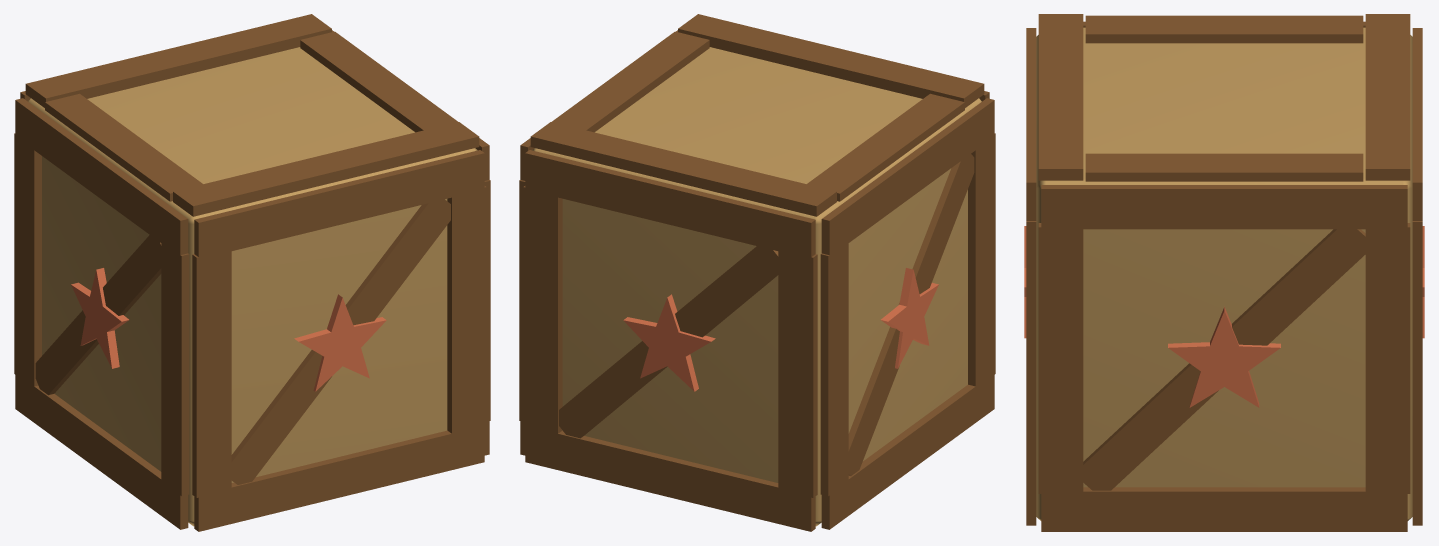
File: tropic-crate.glb
3 renders of one model, left to right at view 1: azimuth 30°, elevation 25°; view 2: azimuth 150°, elevation 25°; view 3: azimuth 270°, elevation 25°, orthographic. The views are drawn at different scales.
Parts seen in each view (by area): view 1: tropic-crate; view 2: tropic-crate; view 3: tropic-crate.
Boxes of the visible parts, x1,y1,x2,y2 form: tropic-crate: (14,14,490,531); tropic-crate: (519,14,995,531); tropic-crate: (1024,14,1424,531).
Bounding box in the file's own units: 0.808 × 0.8 × 0.808.
